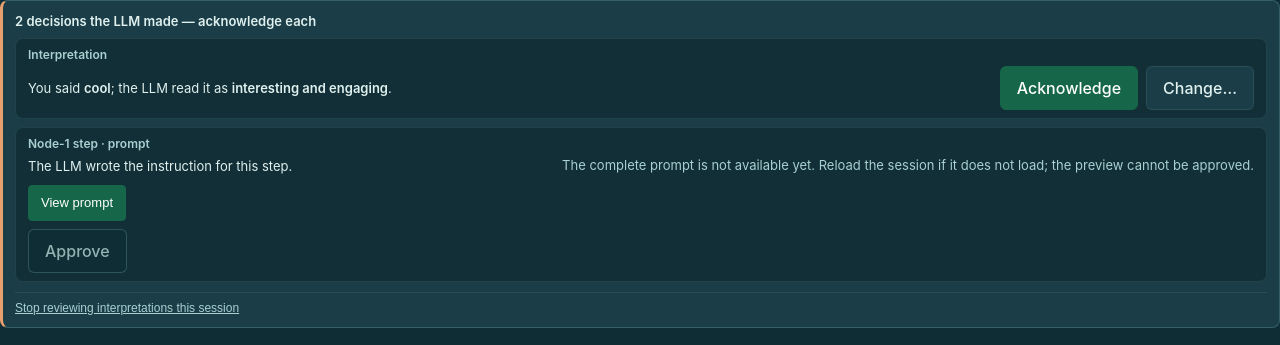
AcknowledgementStack — focus restoration › falls back to a still-gated prompt card's section after a sibling resolves
The width and height of the screenshot is (1280, 345).
Click the button with aria-label "acknowledge the llm's interpretation of cool" at x=1069, y=88, box [1000,66,1138,110]
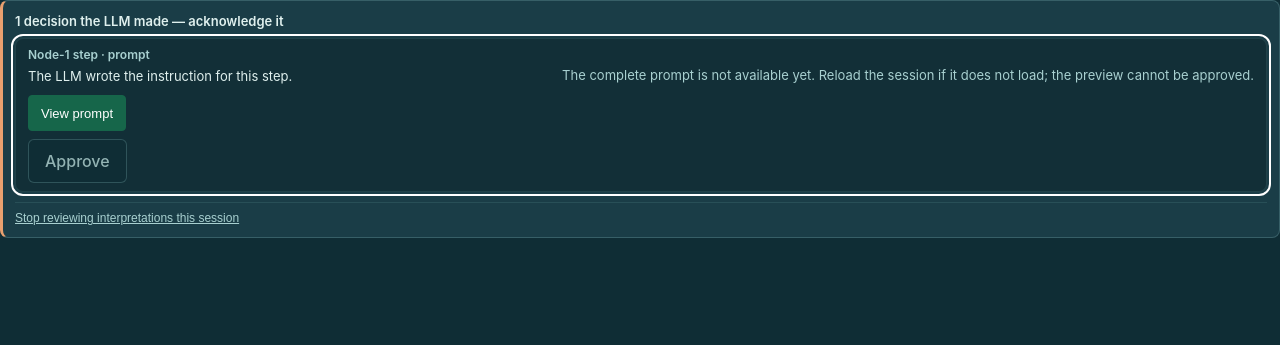
Expected: the number of elements with test id "acknowledgement-card" is 1, [15,38,1267,192]
